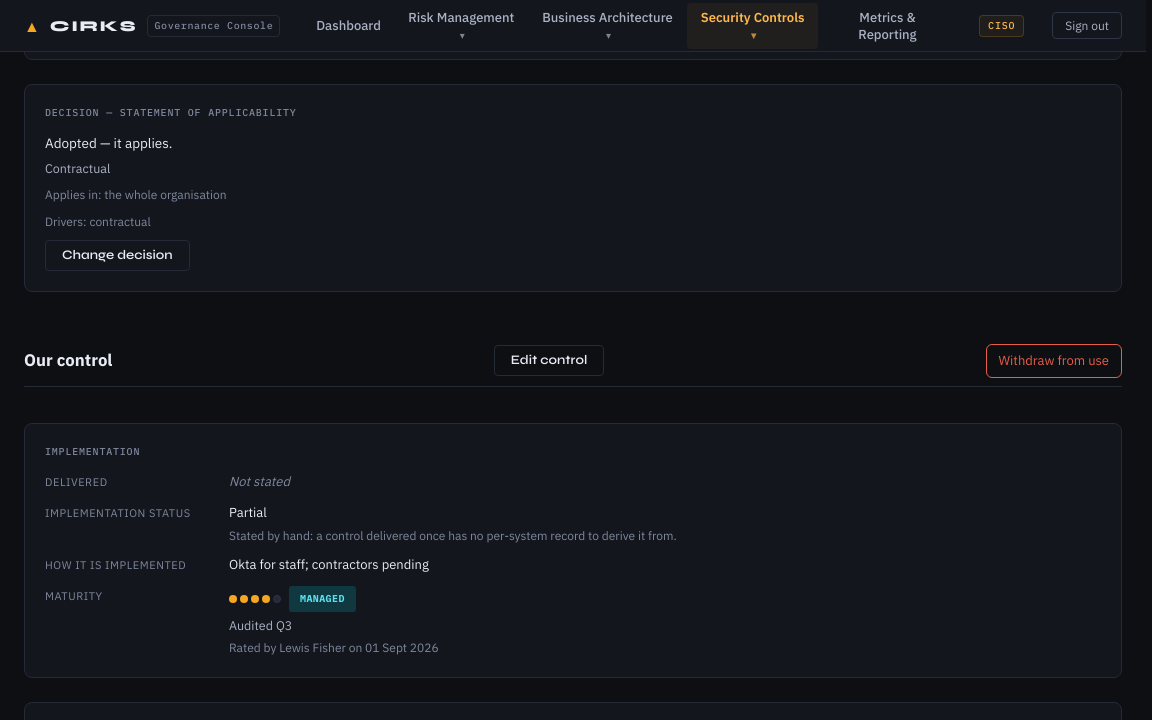
Test: an adopted objective › shows its control read-only until an editor chooses to edit
(page scrolled)
Check: the button "Link threat" is not shown
What coordinates should you click on to do the following:
click the button "Edit control"
I would click on:
 (549, 361)
Its box is [494,345,604,376].
(page scrolled)
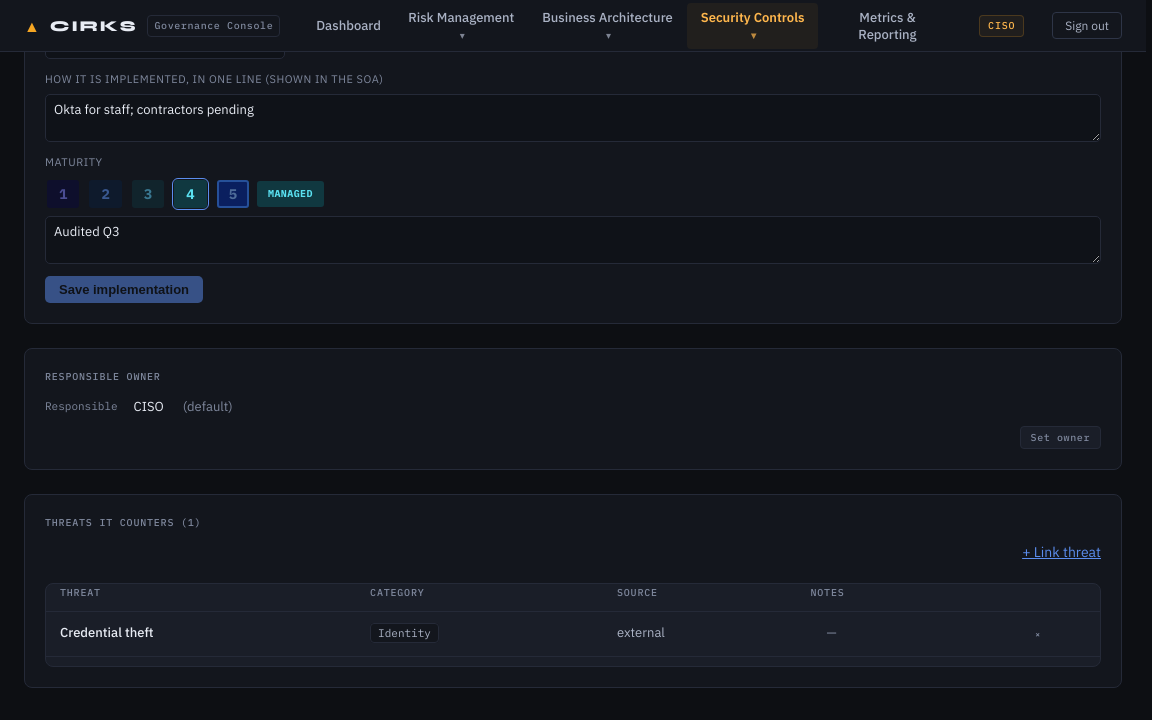
Check: the button "+ Link threat" is shown, box [1022,542,1101,560]
Check: the button named "Unlink threat" is shown, box [1027,622,1048,644]
